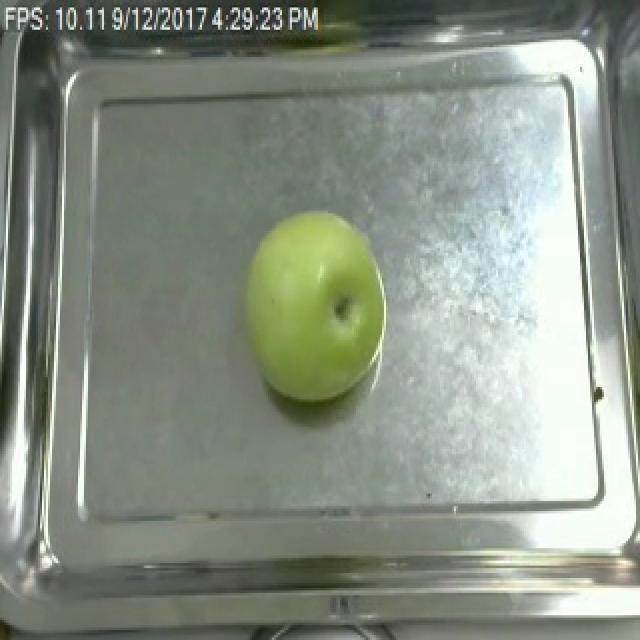50-_ripeness: (234, 208, 398, 410)
